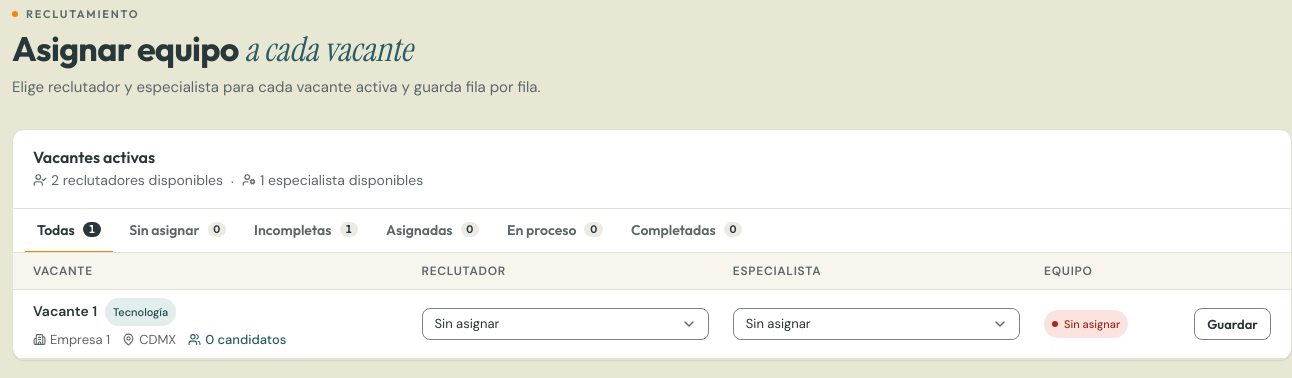
Scenario: /admin/assignments › ADM-058: en una vacante sin equipo, guardar vacío sigue pidiendo elegir a alguien
Click the button "Guardar".
click(1233, 324)  # box [1194,308,1271,340]
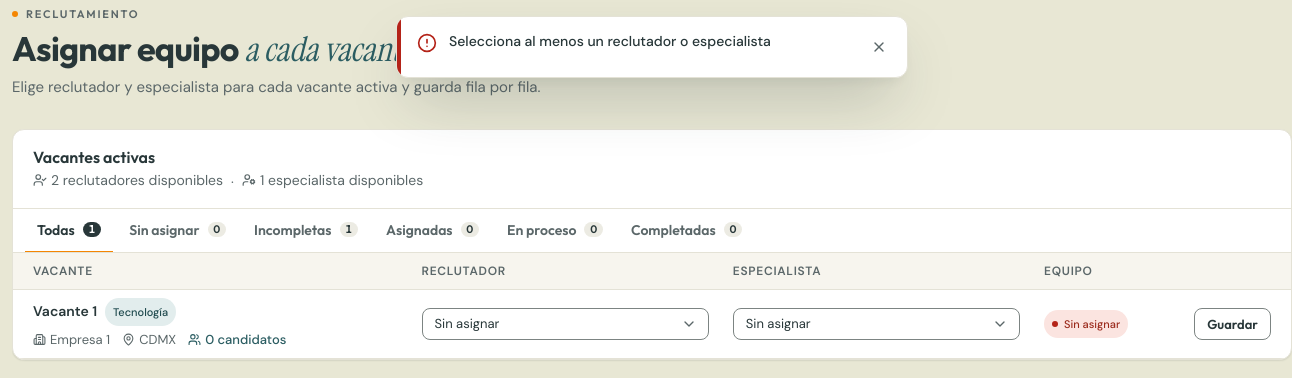
Expected: the text "Selecciona al menos un reclutador o especialista" is shown, [449,32,771,50]
